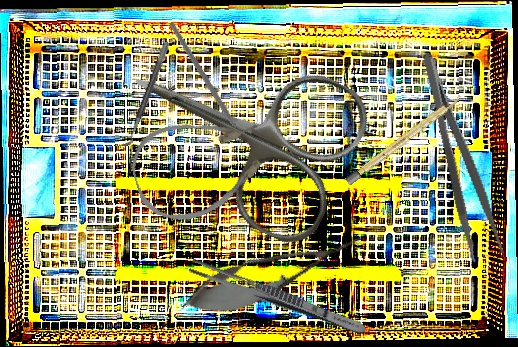Cannula: (122, 101, 278, 232)
Chopper: (133, 21, 277, 152)
Dressing Forceps: (417, 45, 506, 266), (187, 257, 369, 339)
Fixation Ring: (115, 37, 171, 149)
Iris Scissors: (100, 2, 379, 254)
Micro Scissor: (174, 217, 371, 331)
Scalpel Handle: (344, 93, 464, 186)
